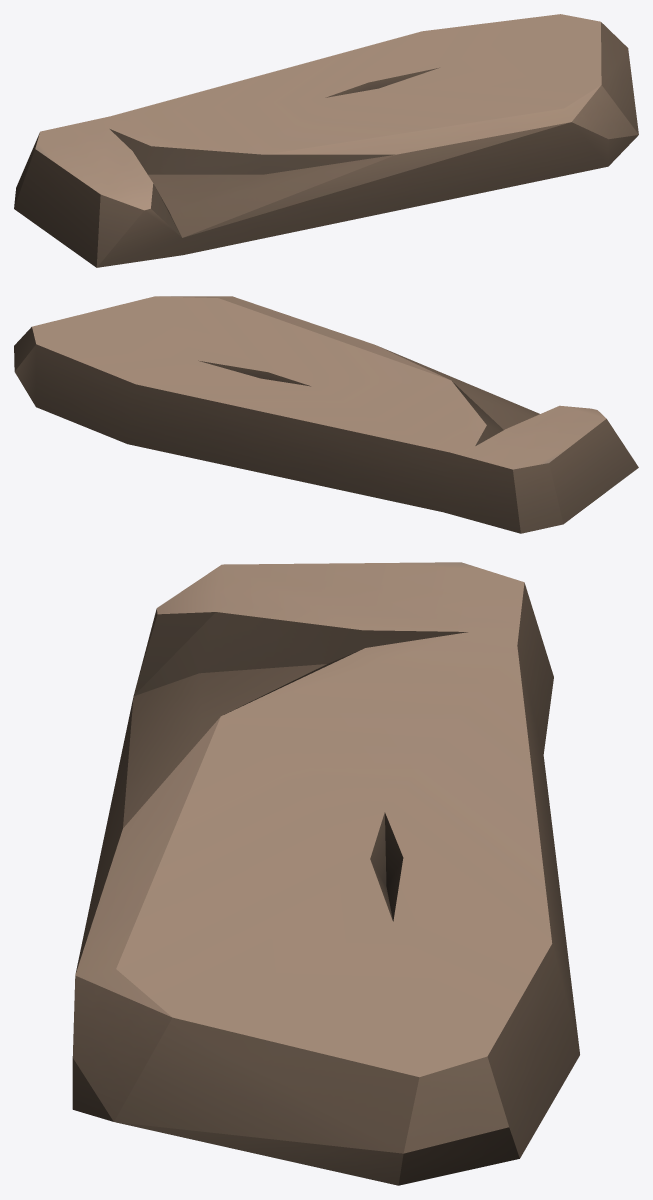
The model's file is Stone_Step_1C.fbx.
The picture shows the model from 3 angles, top to bottom: view 1: azimuth 30°, elevation 25°; view 2: azimuth 150°, elevation 25°; view 3: azimuth 270°, elevation 25°; orthographic projection. The views are drawn at different scales.
Visible parts, largest first — view 1: Stone_Step_1C; view 2: Stone_Step_1C; view 3: Stone_Step_1C.
Boxes of the visible parts, box(x1,y1,x2,y2) form: Stone_Step_1C: box(14, 14, 638, 267); Stone_Step_1C: box(14, 296, 638, 533); Stone_Step_1C: box(72, 562, 579, 1185).
Size of the model in its own units: 3.13 by 0.2922 by 1.21.
